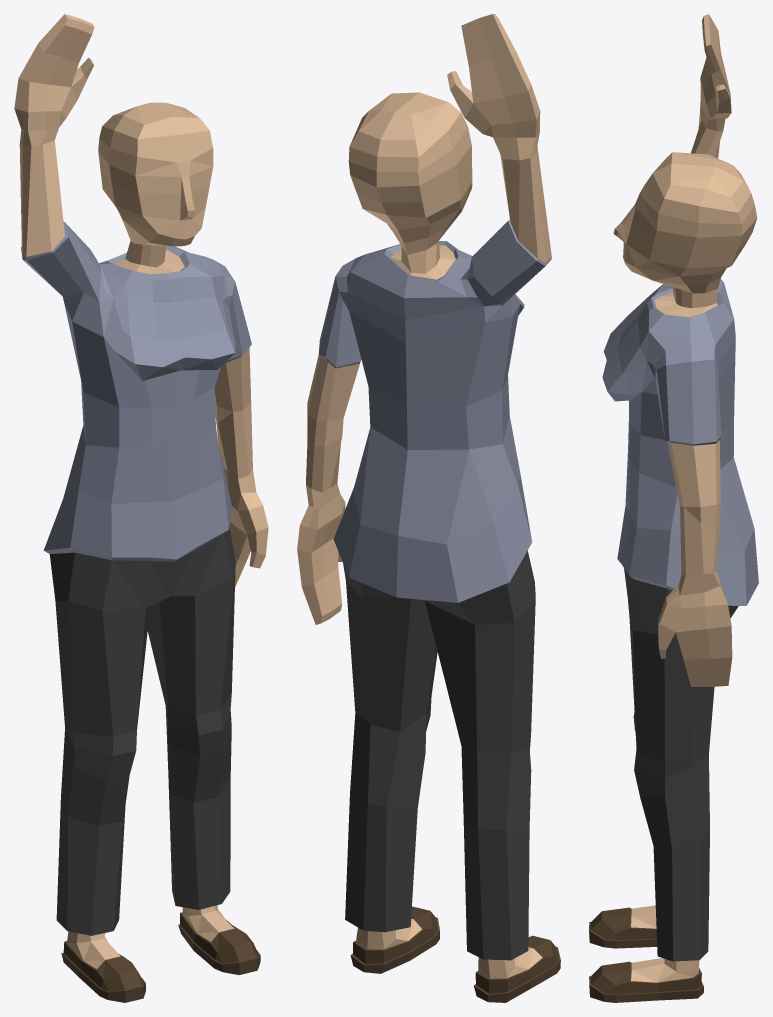
The model's file is Woman_Standing_Waving.glb.
The picture shows the model from 3 angles, left to right: view 1: azimuth 30°, elevation 25°; view 2: azimuth 150°, elevation 25°; view 3: azimuth 270°, elevation 25°; orthographic projection. The views are drawn at different scales.
Visible parts, largest first — view 1: Woman_Standing_Waving; view 2: Woman_Standing_Waving; view 3: Woman_Standing_Waving.
Part boxes in pixels (x1=…): Woman_Standing_Waving: x1=14, y1=14, x2=268, y2=1002; Woman_Standing_Waving: x1=297, y1=14, x2=560, y2=1002; Woman_Standing_Waving: x1=589, y1=14, x2=758, y2=1002.
Bounding box in the file's own units: 1.06 × 4.21 × 0.7037.
